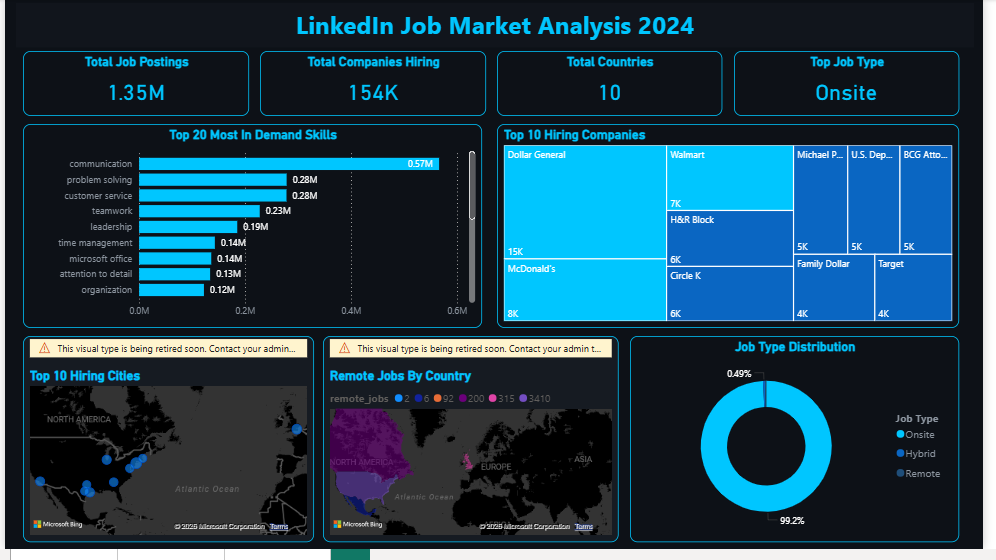

This screenshot's page, from the dashboard's own definition file:
{"tool":"powerbi","page":{"name":"Dark Theme","canvas":[1280,720],"ordinal":0},"visuals":[{"type":"textbox","box":[14.4,5.2,1254.1,57.6],"z":0},{"type":"card","title":"Total Job Postings","fields":{"Values":["top_jobs.Total Job Postings"]},"box":[23.6,68.1,295.9,85.1],"z":1000},{"type":"card","title":"Total Companies Hiring","fields":{"Values":["Sum(top_companies.total_postings)"]},"box":[333.8,68.1,295.9,85.1],"z":2000},{"type":"card","title":"Total Countries","fields":{"Values":["CountNonNull(top_countries.country)"]},"box":[644.1,68.1,294.5,85.1],"z":3000},{"type":"card","title":"Top Job Type","fields":{"Values":["job_type_dist.Top Job Type"]},"box":[954.3,68.1,294.5,85.1],"z":4000},{"type":"clusteredBarChart","title":"Top 20 Most In Demand Skills","fields":{"Category":["top_skills.skill"],"Y":["Sum(top_skills.total_postings)"]},"box":[23.6,163.6,600.9,267.1],"z":5000},{"type":"donutChart","title":"Job Type Distribution","fields":{"Category":["job_type_dist.job_type"],"Y":["Sum(job_type_dist.total_postings)"]},"box":[818.2,441.2,430.7,269.7],"z":6000},{"type":"treemap","title":"Top 10 Hiring Companies","fields":{"Group":["top_companies_clean.company"],"Values":["Sum(top_companies_clean.total_postings)"]},"box":[644.1,163.6,604.8,267.1],"z":7000},{"type":"map","title":"Top 10 Hiring Cities","fields":{"Category":["top_cities.city"],"Size":["Sum(top_cities.total_postings)"]},"box":[23.6,441.2,380.9,269.7],"z":8000},{"type":"filledMap","title":"Remote Jobs By Country","fields":{"Category":["remote_by_country.country"],"Series":["remote_by_country.remote_jobs"]},"box":[416.3,441.2,387.5,269.7],"z":9000}]}

Visuals, with their boxes in screenshot pixels (x1, y1, x2, y2), scaled from the page's 1280x720 canvas onto the 996x560 screenshot:
textbox: Rect(11, 4, 987, 49)
"Total Job Postings" card: Rect(18, 53, 249, 119)
"Total Companies Hiring" card: Rect(260, 53, 490, 119)
"Total Countries" card: Rect(501, 53, 730, 119)
"Top Job Type" card: Rect(743, 53, 972, 119)
"Top 20 Most In Demand Skills" clusteredBarChart: Rect(18, 127, 486, 335)
"Job Type Distribution" donutChart: Rect(637, 343, 972, 553)
"Top 10 Hiring Companies" treemap: Rect(501, 127, 972, 335)
"Top 10 Hiring Cities" map: Rect(18, 343, 315, 553)
"Remote Jobs By Country" filledMap: Rect(324, 343, 625, 553)
